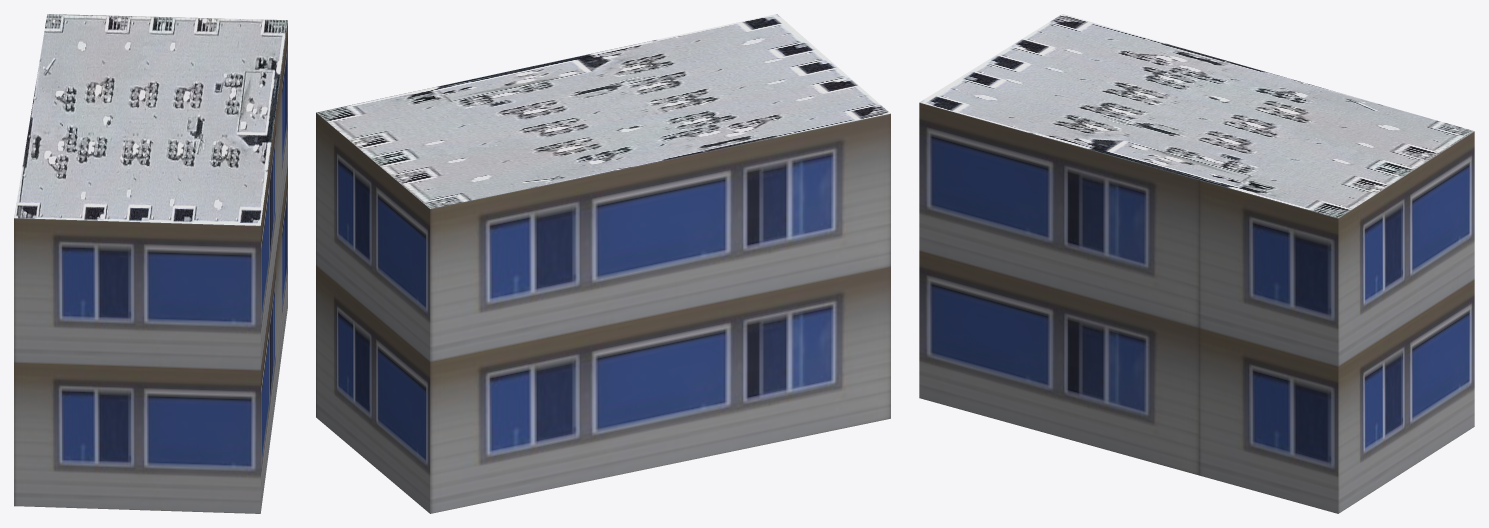
Rendered from ResTex__116.fbx.
3 views of the same model, side by side, from view 1: azimuth 30°, elevation 25°; view 2: azimuth 150°, elevation 25°; view 3: azimuth 270°, elevation 25° (orthographic). The views are drawn at different scales.
Parts seen in each view (by area): view 1: CityEngineMaterial_23_m, CityEngineMaterial_2_m; view 2: CityEngineMaterial_23_m, CityEngineMaterial_2_m; view 3: CityEngineMaterial_23_m, CityEngineMaterial_2_m.
Part boxes in pixels (x1,y1,x2,y2): CityEngineMaterial_23_m: (14, 21, 287, 513); CityEngineMaterial_2_m: (14, 14, 287, 225); CityEngineMaterial_23_m: (316, 112, 890, 513); CityEngineMaterial_2_m: (316, 14, 890, 208); CityEngineMaterial_23_m: (919, 102, 1474, 513); CityEngineMaterial_2_m: (920, 14, 1474, 218).
Bounding box in the file's own units: 8.9 × 6 × 10.22.
Materials: 2 (2 with a texture image).
